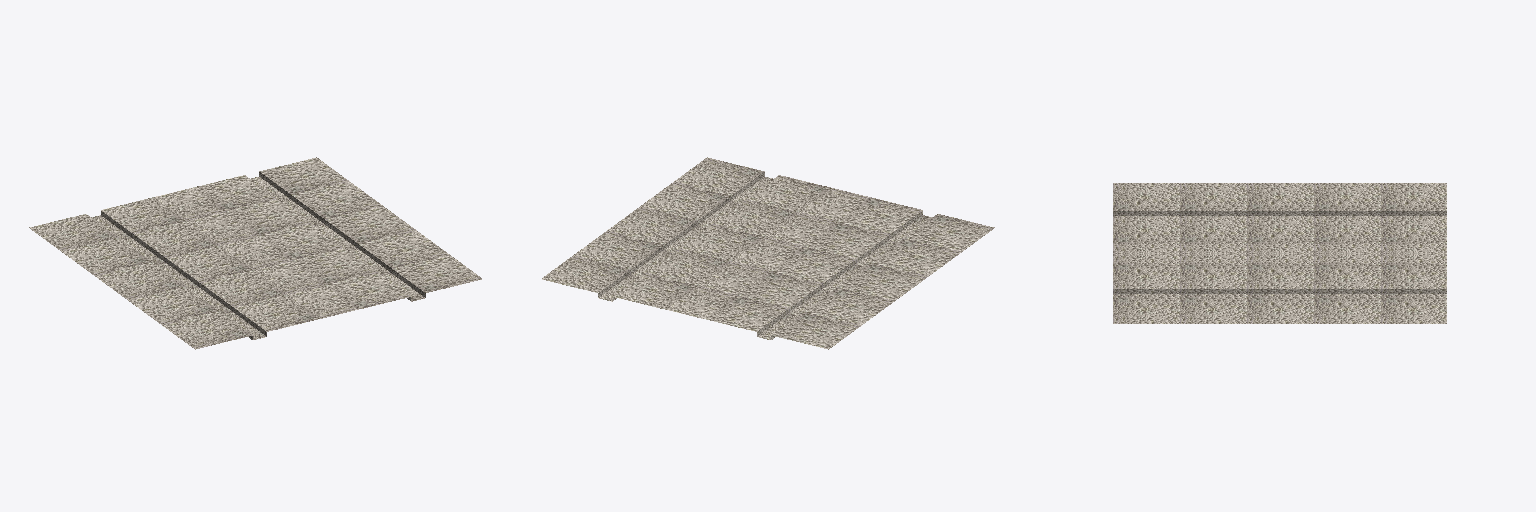
3 views of the same model, side by side, from view 1: azimuth 30°, elevation 25°; view 2: azimuth 150°, elevation 25°; view 3: azimuth 270°, elevation 25° (orthographic).
Size of the model in its own units: 30 by 0.5 by 30.
Materials: 1 (1 with a texture image).